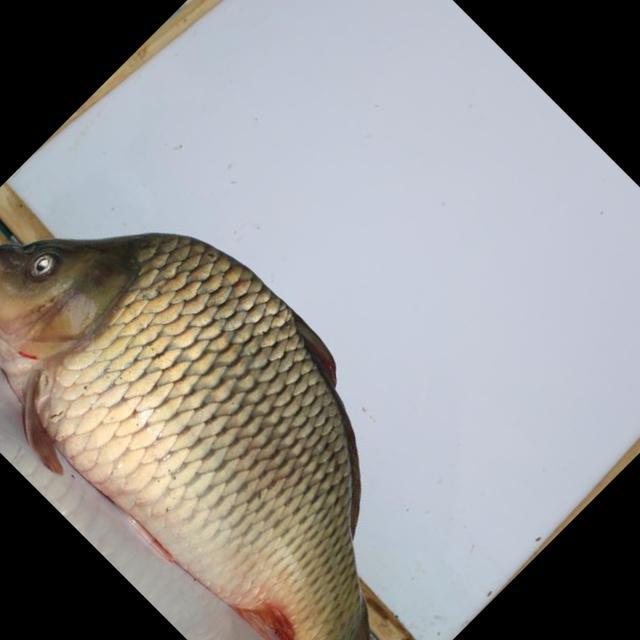CommonCarp: (2, 230, 417, 640)
